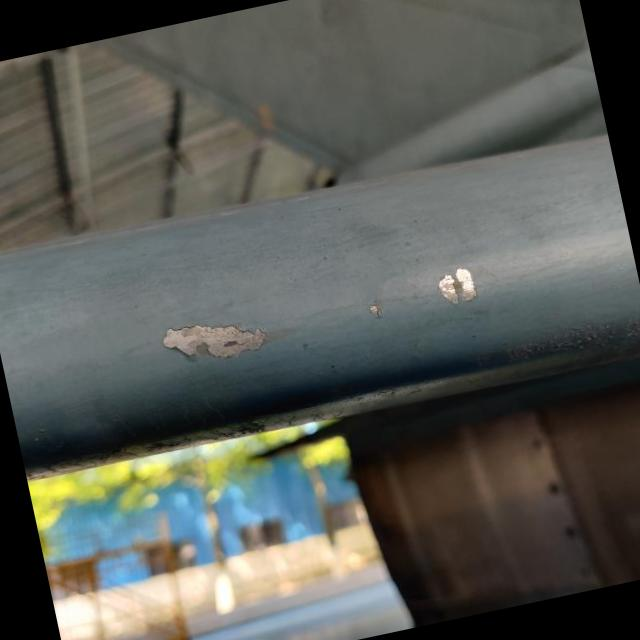Paint-off: (158, 320, 269, 363), (429, 260, 492, 311)
